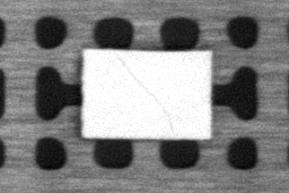DIE_CRACK: (117, 54, 175, 132)
